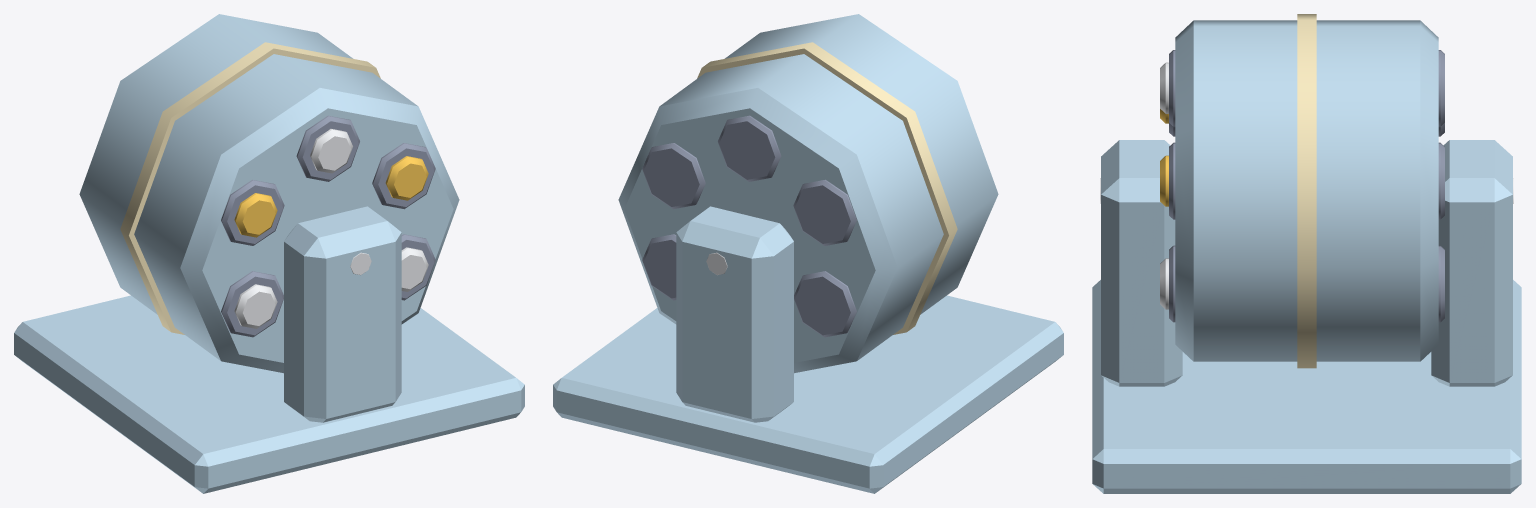
Rendered from R4X_ReloadBooster_LOD1.glb.
3 renders of one model, left to right at view 1: azimuth 30°, elevation 25°; view 2: azimuth 150°, elevation 25°; view 3: azimuth 270°, elevation 25°, orthographic. The views are drawn at different scales.
Visible parts, largest first — view 1: R4X_ReloadBooster_LOD1; view 2: R4X_ReloadBooster_LOD1; view 3: R4X_ReloadBooster_LOD1.
Boxes of the visible parts, box(x1,y1,x2,y2) form: R4X_ReloadBooster_LOD1: box(14, 14, 524, 493); R4X_ReloadBooster_LOD1: box(553, 14, 1063, 493); R4X_ReloadBooster_LOD1: box(1092, 14, 1521, 493).
Size of the model in its own units: 0.52 by 0.5184 by 0.52.
